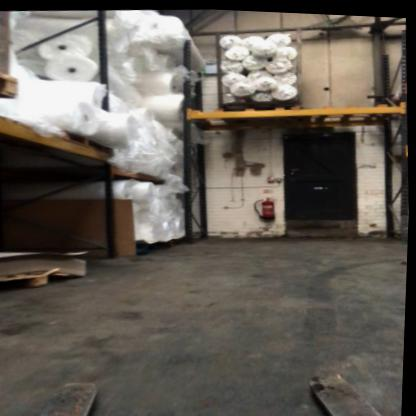vertical_damage: (395, 204, 411, 222)
